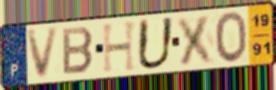B: (61, 26, 96, 77)
H: (101, 19, 139, 75)
O: (213, 10, 249, 65)
U: (135, 16, 177, 72)
V: (25, 25, 61, 81)
X: (175, 13, 218, 67)
